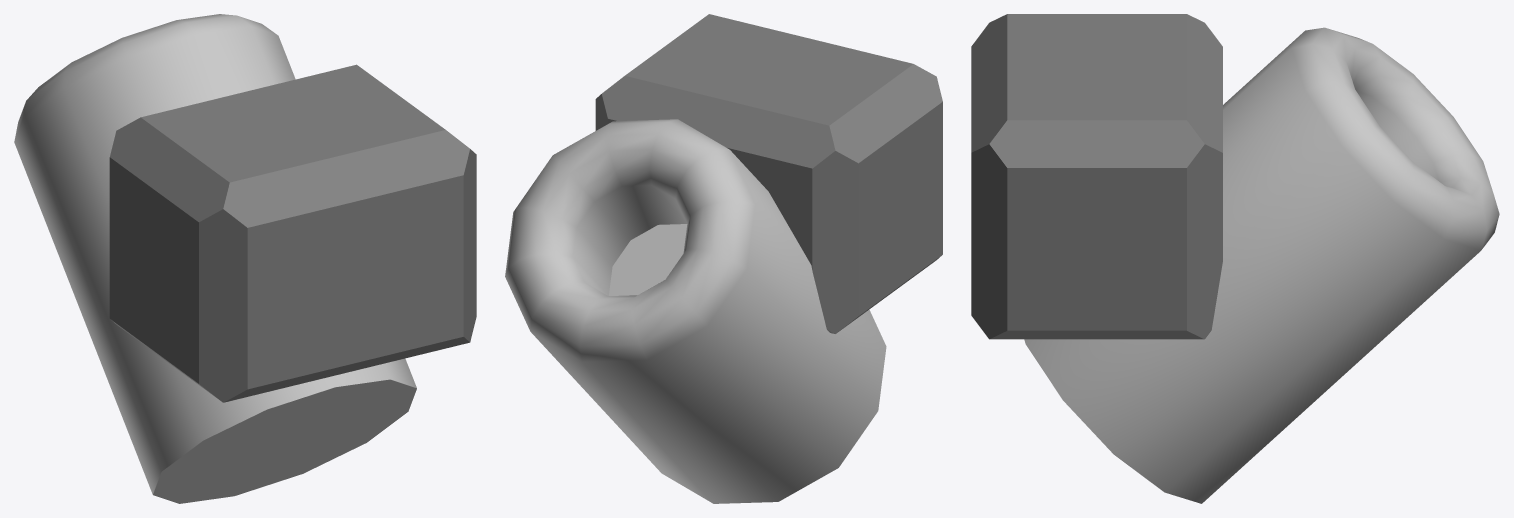
The model's file is Mortar.fbx.
3 renders of one model, left to right at view 1: azimuth 30°, elevation 25°; view 2: azimuth 150°, elevation 25°; view 3: azimuth 270°, elevation 25°, orthographic. The views are drawn at different scales.
Parts seen in each view (by area): view 1: Box001, Cylinder001; view 2: Cylinder001, Box001; view 3: Cylinder001, Box001.
Boxes of the visible parts, x1,y1,x2,y2 form: Box001: [109, 64, 476, 402]; Cylinder001: [14, 14, 416, 503]; Cylinder001: [505, 119, 886, 503]; Box001: [595, 14, 942, 333]; Cylinder001: [1024, 27, 1499, 503]; Box001: [971, 14, 1222, 339].
Size of the model in its own units: 90 by 147 by 136.
Materials: 2 (2 with a texture image).
